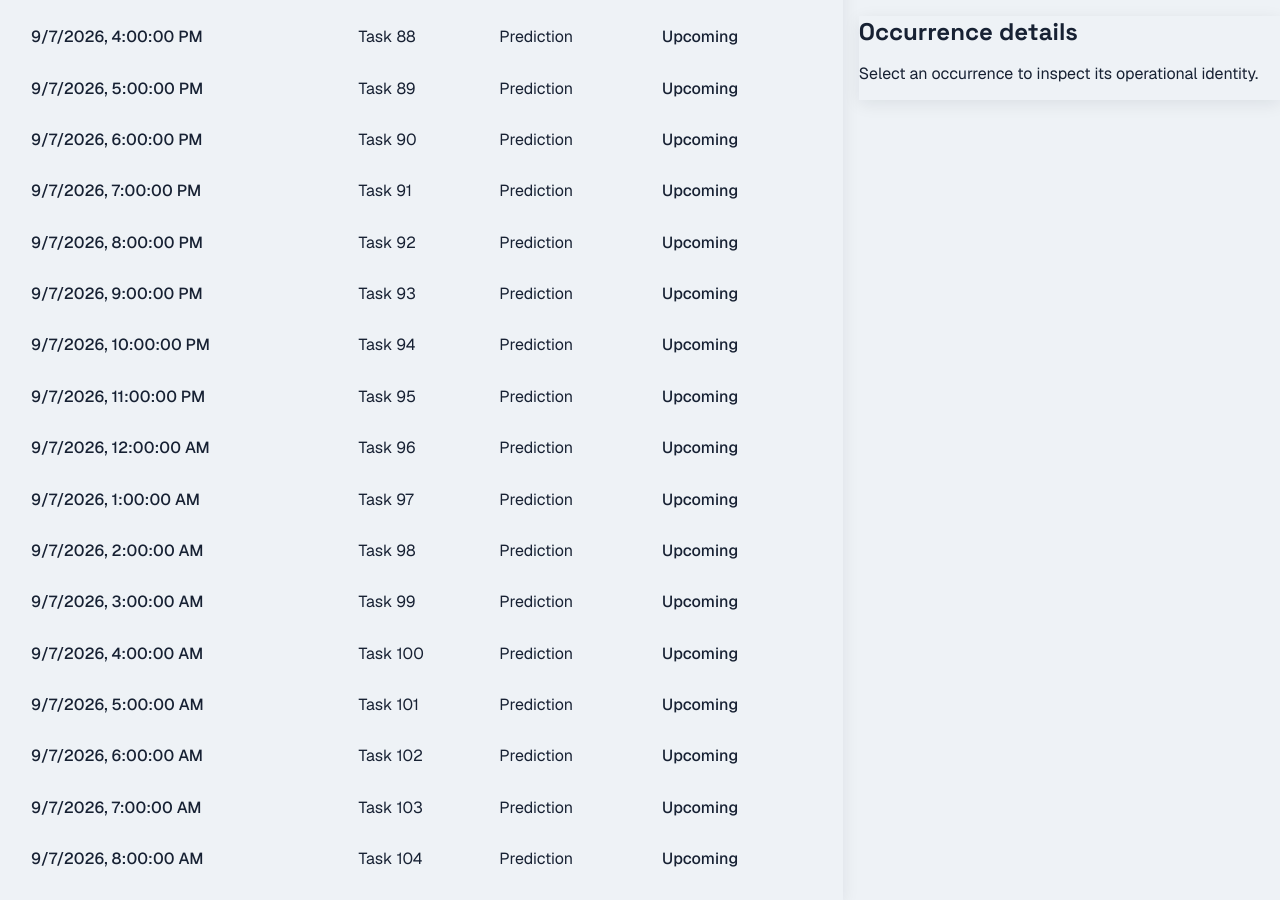
Scenario: SchedulePage › renders and selects more than 100 rows
The width and height of the screenshot is (1280, 900).
(page scrolled)
Click the button "9/7/2026, 4:00:00 AM": click(117, 653) x1=28 y1=640 x2=206 y2=667
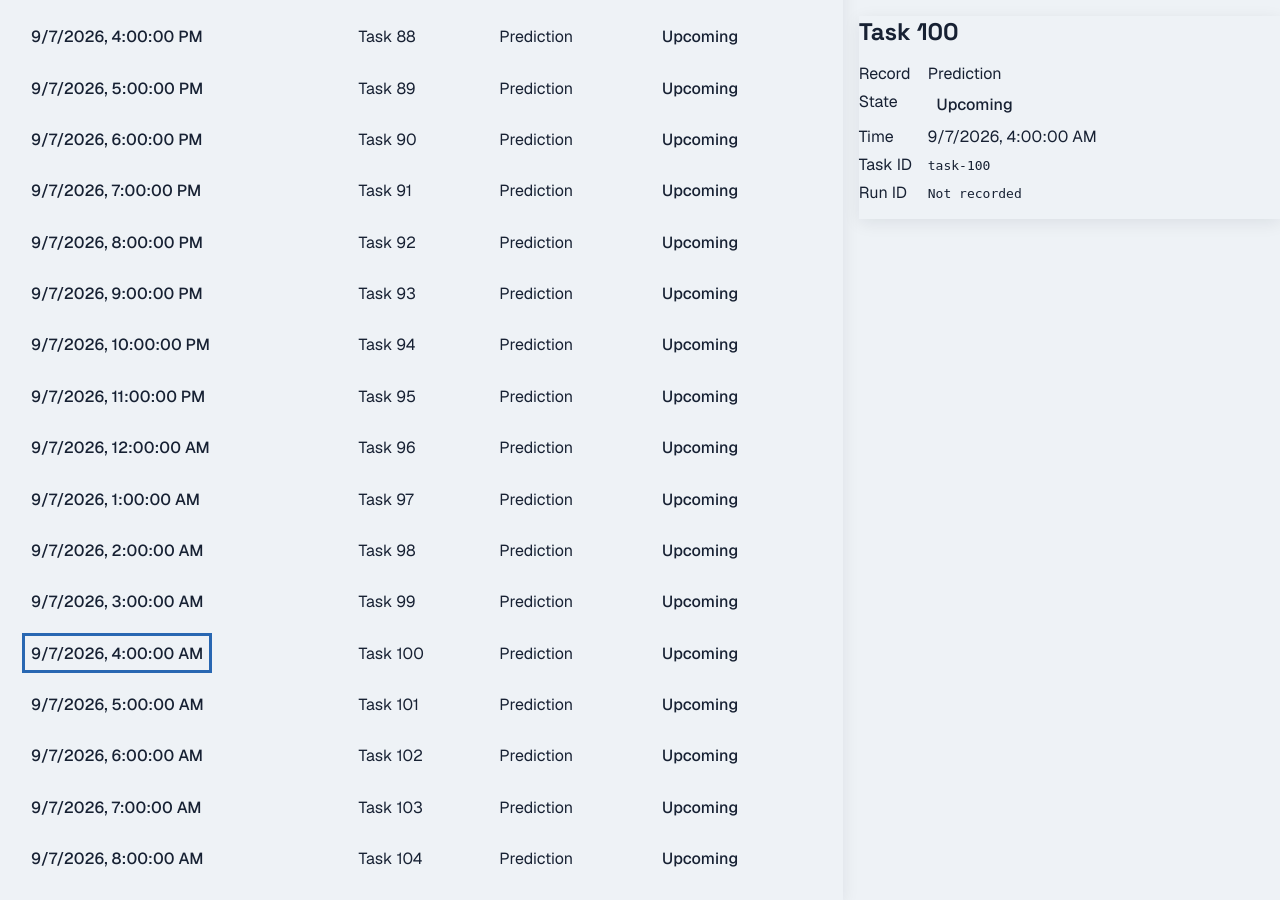
Result: the heading "Task 100" is shown at x1=859 y1=16 x2=959 y2=47
